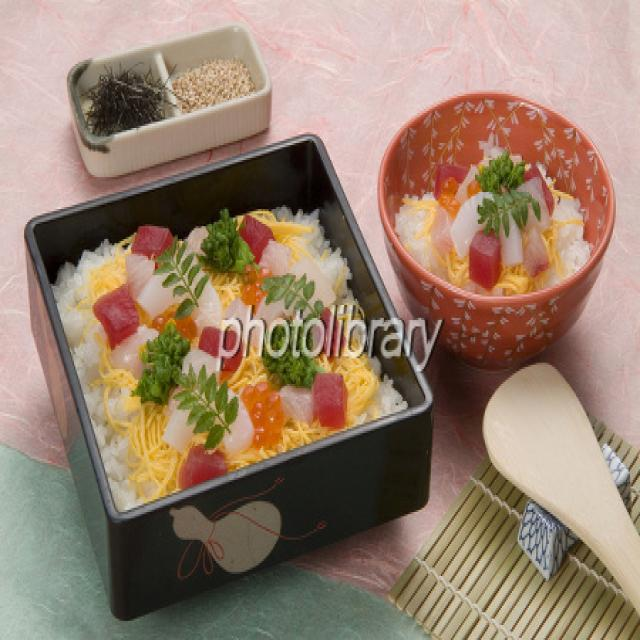寿司卷物: (7, 96, 441, 610)
